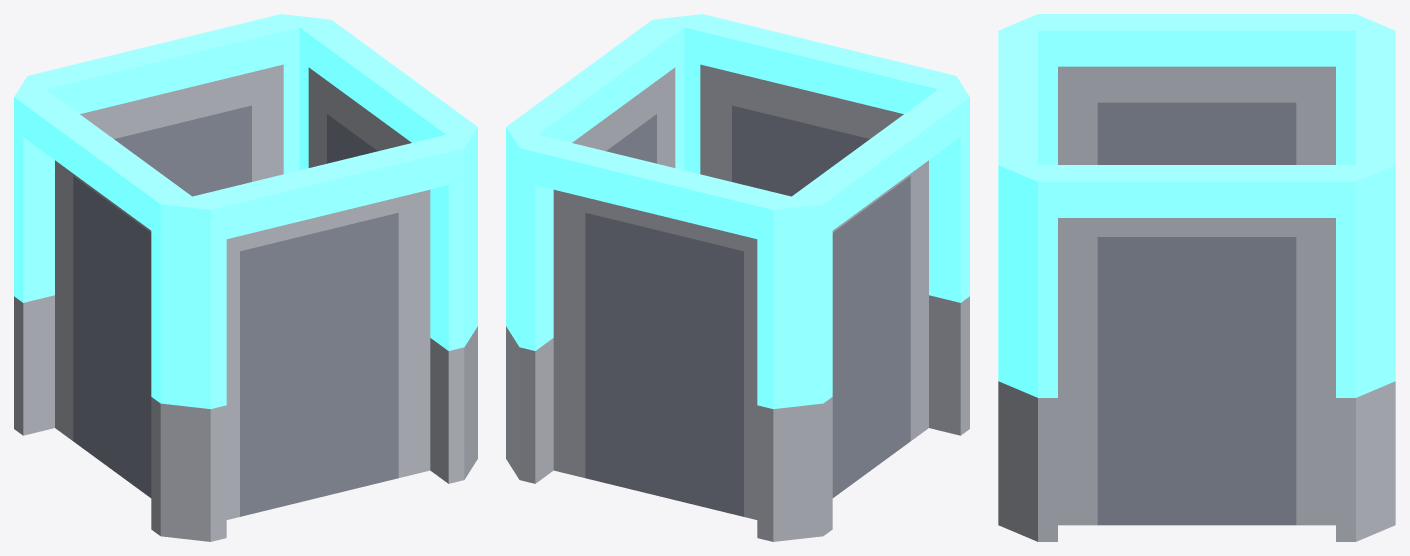
The model's file is structure_closed.glb.
The picture shows the model from 3 angles, left to right: view 1: azimuth 30°, elevation 25°; view 2: azimuth 150°, elevation 25°; view 3: azimuth 270°, elevation 25°; orthographic projection. The views are drawn at different scales.
Visible parts, largest first — view 1: structure_closed; view 2: structure_closed; view 3: structure_closed.
Boxes of the visible parts, x1,y1,x2,y2 form: structure_closed: (14,14,477,541); structure_closed: (506,14,969,541); structure_closed: (998,14,1395,541).
Size of the model in its own units: 1 by 1 by 1.
